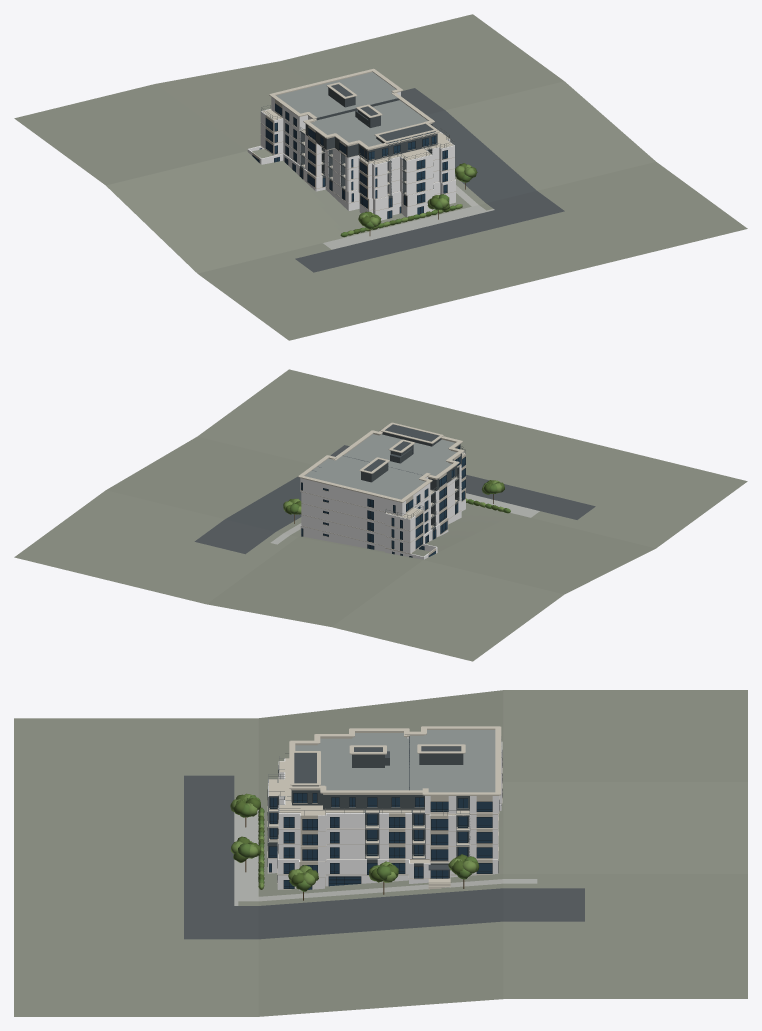
The model's file is Highland-exterior.glb.
3 views of the same model, one above another, from view 1: azimuth 30°, elevation 25°; view 2: azimuth 150°, elevation 25°; view 3: azimuth 270°, elevation 25° (orthographic). The views are drawn at different scales.
Parts seen in each view (by area): view 1: continuous-site-context, roof-north, roof-south, R5-terrace-surface, wall-R5-6-metal; view 2: continuous-site-context, roof-north, roof-south, wall-R5-0-brick-x, wall-R4-2-brick-x, wall-R2-2-brick-x, wall-R3-2-brick-x, wall-R1-2-brick-x, south-clerestory; view 3: continuous-site-context, roof-north, roof-south, R5-terrace-surface, wall-R5-3-metal, wall-R4-7-brick-y, wall-R2-7-brick-y, wall-R3-7-brick-y, elevator-overrun, south-clerestory, wall-R1-7-brick-y, stair-overrun.
Part boxes in pixels (x1,y1,x2,y2): continuous-site-context: [14, 14, 747, 340]; roof-north: [276, 72, 397, 117]; roof-south: [311, 100, 427, 146]; R5-terrace-surface: [262, 109, 453, 164]; wall-R5-6-metal: [368, 134, 437, 161]; continuous-site-context: [14, 369, 747, 661]; roof-north: [305, 456, 425, 499]; roof-south: [344, 434, 456, 475]; wall-R5-0-brick-x: [300, 478, 401, 515]; wall-R4-2-brick-x: [301, 492, 385, 523]; wall-R2-2-brick-x: [301, 515, 384, 545]; wall-R3-2-brick-x: [301, 503, 384, 534]; wall-R1-2-brick-x: [300, 526, 384, 551]; south-clerestory: [382, 424, 441, 446]; continuous-site-context: [14, 690, 747, 1016]; roof-north: [409, 730, 495, 792]; roof-south: [295, 733, 408, 790]; R5-terrace-surface: [268, 758, 469, 815]; wall-R5-3-metal: [323, 795, 424, 809]; wall-R4-7-brick-y: [326, 813, 429, 828]; wall-R2-7-brick-y: [326, 844, 429, 858]; wall-R3-7-brick-y: [326, 829, 429, 843]; elevator-overrun: [419, 746, 463, 764]; south-clerestory: [292, 753, 318, 786]; wall-R1-7-brick-y: [325, 859, 409, 874]; stair-overrun: [352, 747, 384, 767].
Bounding box in the file's own units: 132 × 22.51 × 137.
